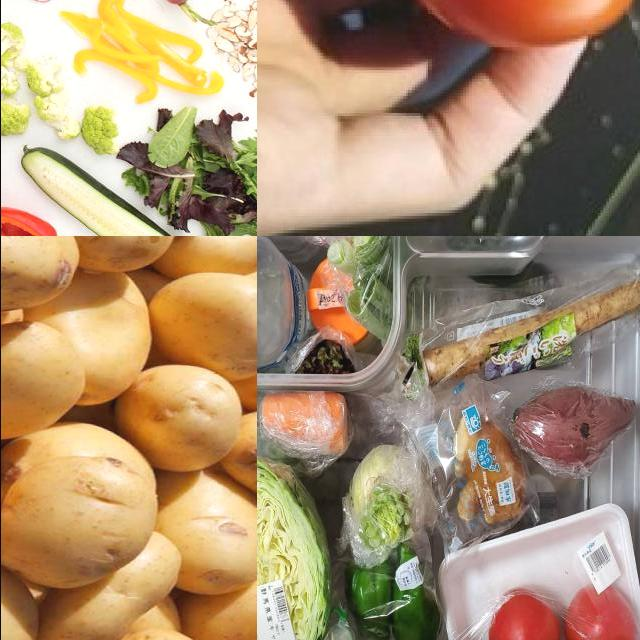bell_pepper: (1, 216, 58, 237)
cabbage: (257, 453, 332, 640)
carrot: (260, 393, 354, 457)
potato: (1, 424, 162, 588), (146, 472, 257, 595), (118, 369, 237, 472), (144, 275, 257, 383), (1, 318, 84, 443), (1, 237, 76, 316), (44, 237, 177, 279), (150, 237, 257, 281), (184, 583, 257, 640), (218, 410, 257, 500)
